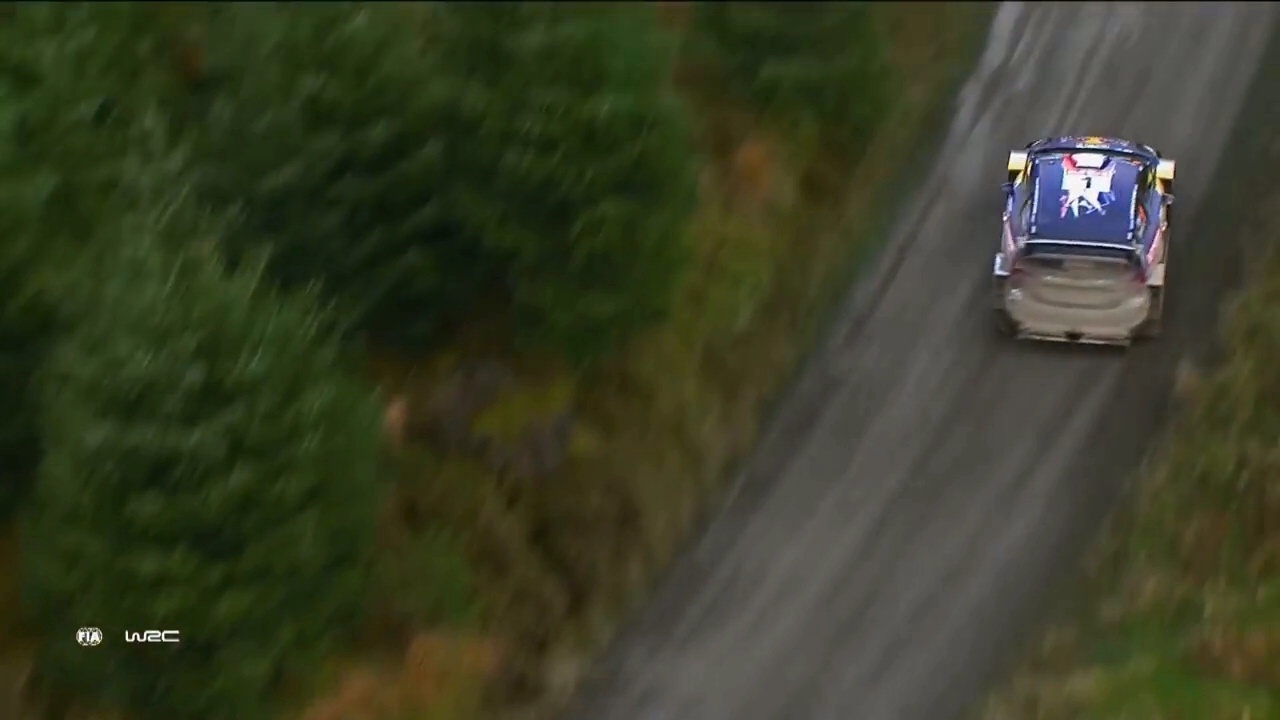araba: (994, 134, 1181, 349)
